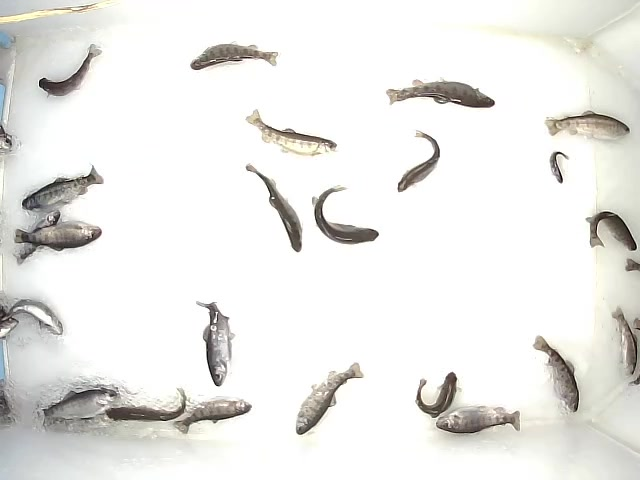fish: (244, 162, 304, 253), (295, 362, 364, 436), (244, 107, 339, 157), (311, 183, 379, 246), (21, 163, 106, 213), (194, 298, 236, 388), (385, 76, 496, 110), (38, 42, 103, 98), (532, 341, 579, 414), (171, 396, 253, 435), (12, 218, 103, 253), (104, 386, 188, 423), (11, 208, 61, 267), (189, 40, 280, 72), (397, 129, 441, 194), (43, 386, 119, 423), (544, 110, 632, 141), (435, 405, 522, 435), (2, 297, 64, 336), (414, 371, 462, 418), (585, 210, 638, 252), (609, 304, 637, 379), (549, 151, 569, 185)
